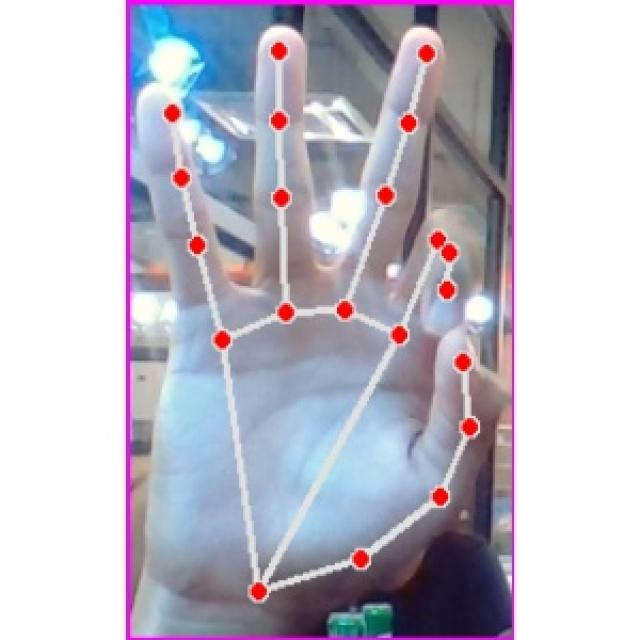F: (137, 19, 496, 612)
